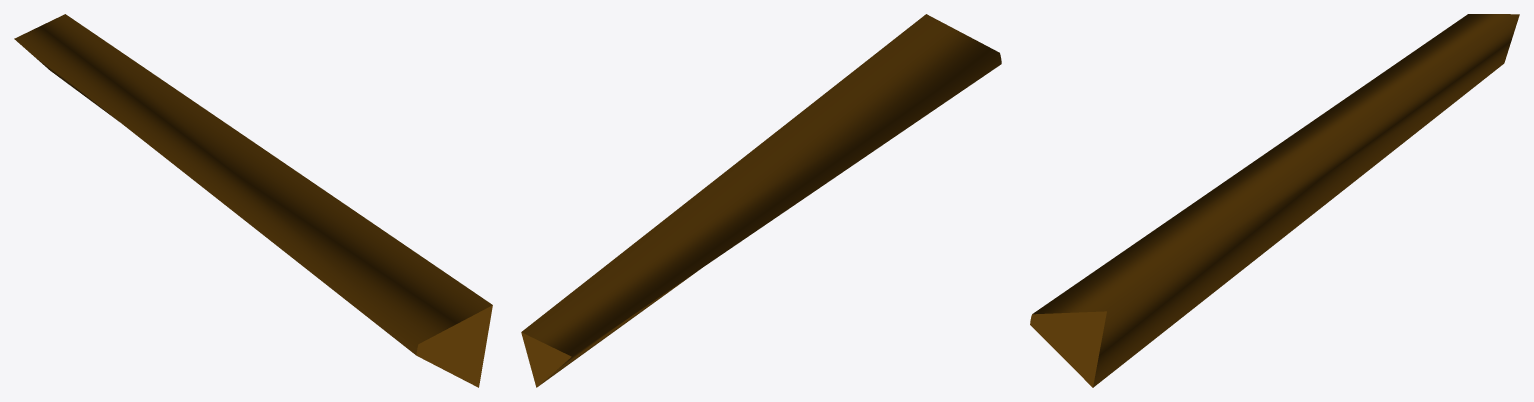
File: Copie de Axe Laiton pilier 2^Copie de ASS pilier 2_Horloge Comtoise Verge - Sonnerie.obj
The picture shows the model from 3 angles, left to right: view 1: azimuth 30°, elevation 25°; view 2: azimuth 150°, elevation 25°; view 3: azimuth 330°, elevation 25°; orthographic projection.
Parts seen in each view (by area): view 1: Face_1, Face_2; view 2: Face_1, Face_3; view 3: Face_1, Face_2.
Boxes of the visible parts, bbox=[...] form: Face_1: bbox=[14, 14, 492, 355]; Face_2: bbox=[416, 305, 492, 387]; Face_1: bbox=[521, 14, 1001, 386]; Face_3: bbox=[521, 332, 571, 387]; Face_1: bbox=[1032, 14, 1519, 387]; Face_2: bbox=[1030, 311, 1106, 387].
Size of the model in its own units: 0.00151 by 0.0015 by 0.0143.
